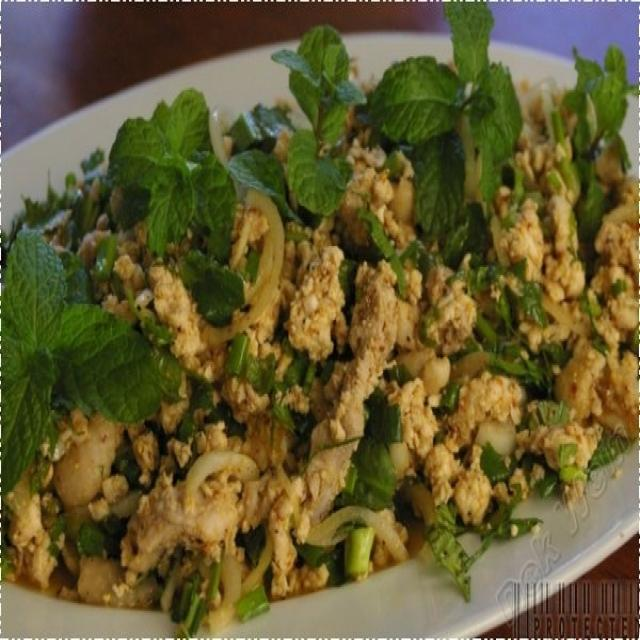鸡肉料理 含炸鸡: (24, 55, 614, 601)
